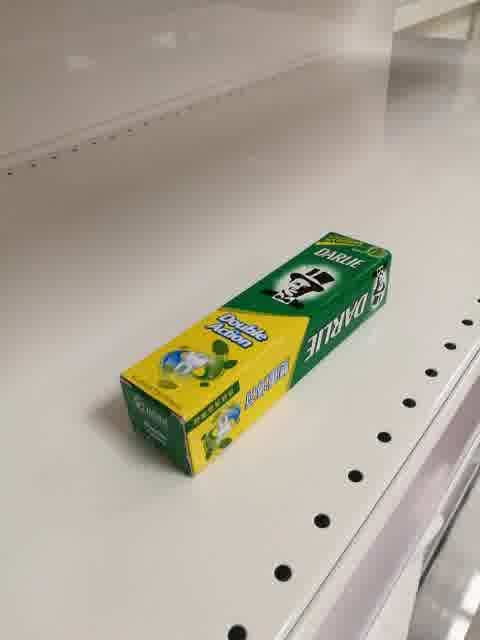toothpaste: (114, 230, 392, 478)
